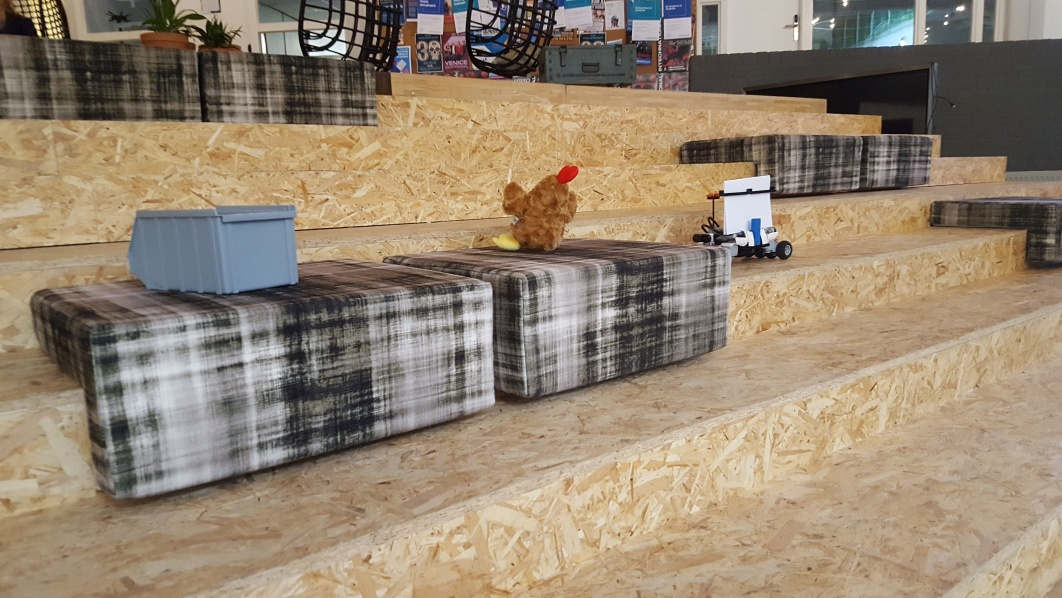beam: (745, 215, 769, 250)
chicken: (496, 164, 581, 255)
tray: (124, 201, 304, 296)
